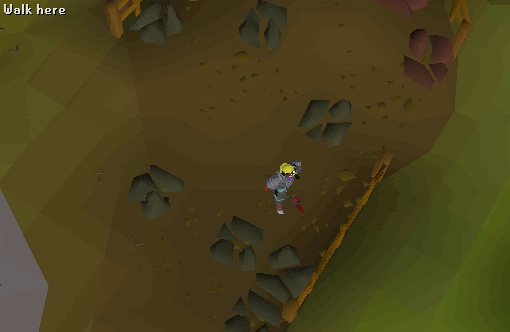coal: (292, 91, 361, 150), (119, 159, 188, 218), (203, 215, 272, 274)
